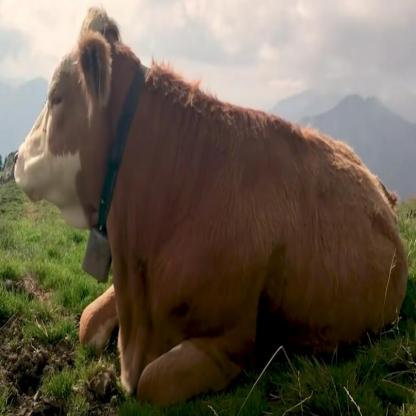cow: (14, 29, 406, 402)
